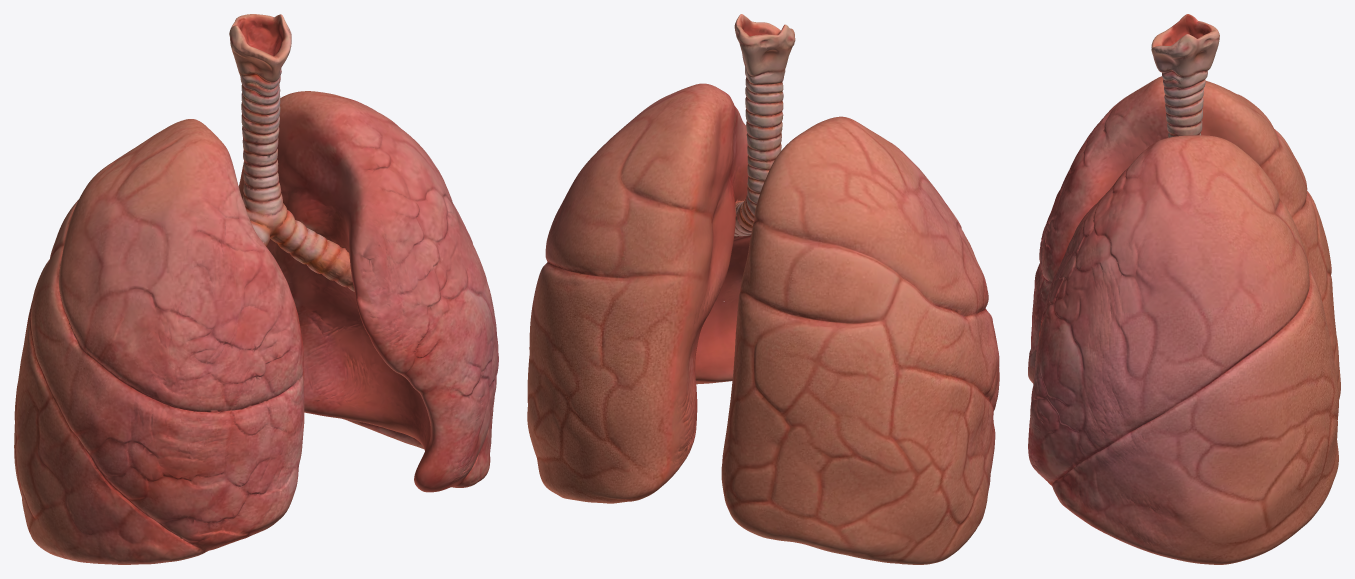
Rendered from lungs.glb.
3 renders of one model, left to right at view 1: azimuth 30°, elevation 25°; view 2: azimuth 150°, elevation 25°; view 3: azimuth 270°, elevation 25°, orthographic. The views are drawn at different scales.
Visible parts, largest first — view 1: tripo_node_a2c7b654-b225-4f4d-9d04-c8d7d752252c; view 2: tripo_node_a2c7b654-b225-4f4d-9d04-c8d7d752252c; view 3: tripo_node_a2c7b654-b225-4f4d-9d04-c8d7d752252c.
Boxes of the visible parts, x1,y1,x2,y2 form: tripo_node_a2c7b654-b225-4f4d-9d04-c8d7d752252c: [14, 14, 498, 564]; tripo_node_a2c7b654-b225-4f4d-9d04-c8d7d752252c: [527, 14, 999, 564]; tripo_node_a2c7b654-b225-4f4d-9d04-c8d7d752252c: [1028, 14, 1340, 564].
Size of the model in its own units: 0.9026 by 0.9793 by 0.6131.
Materials: 1 (1 with a texture image).
